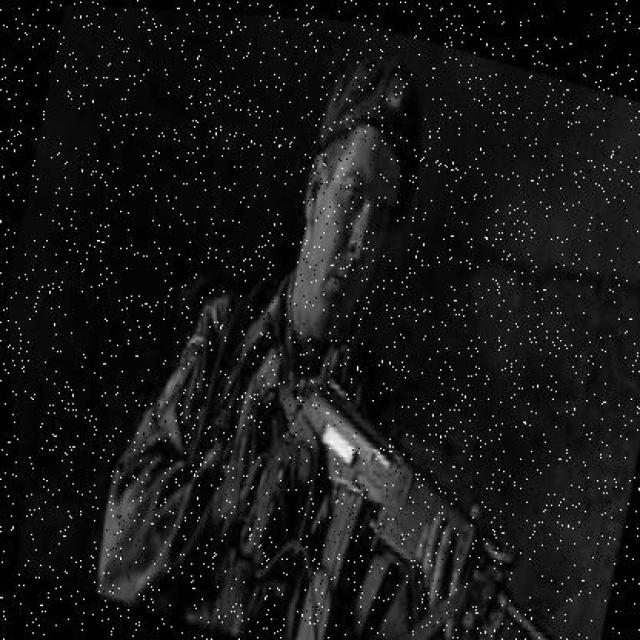weapon: (236, 322, 546, 638)
